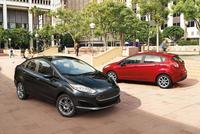car: (14, 56, 121, 116), (102, 51, 187, 88)
